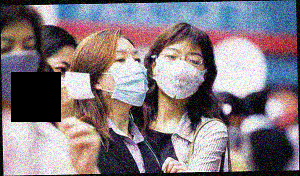with_mask: (1, 33, 42, 107), (155, 45, 206, 102), (100, 49, 148, 106)
